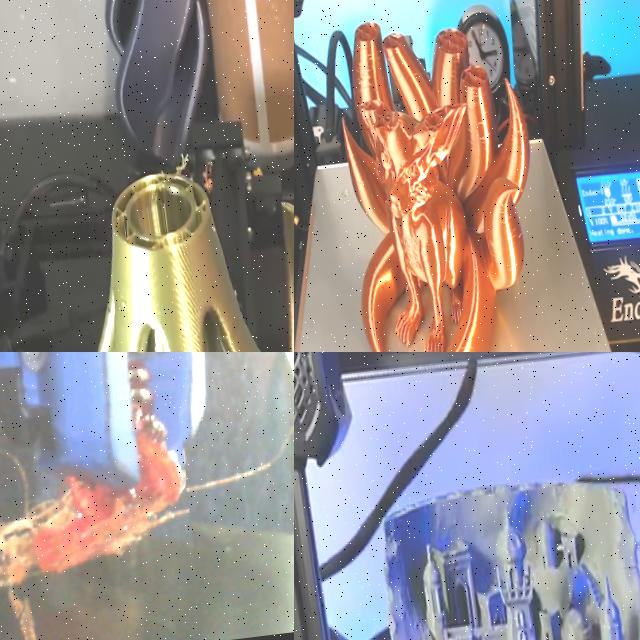spaghetti: (0, 362, 272, 640), (0, 377, 185, 586), (172, 141, 198, 185)
